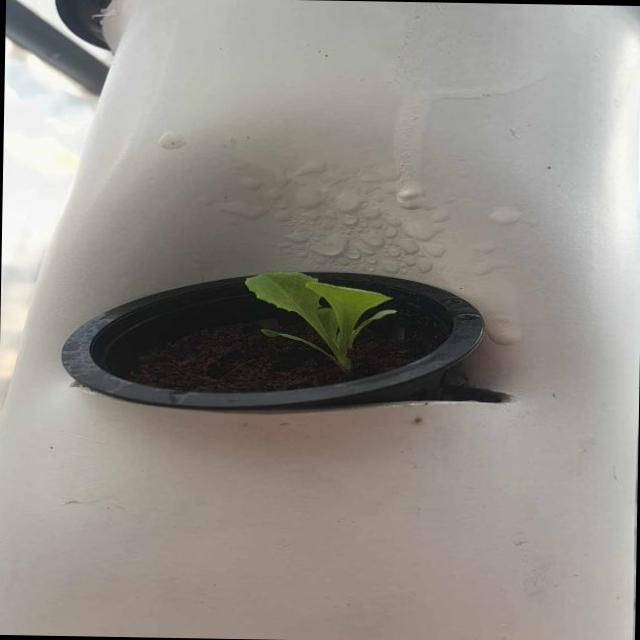Lettuce-Not-Ready-to-Harvest: (234, 264, 401, 388)
